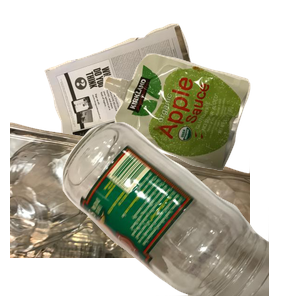glass: (60, 120, 300, 300)
paper: (42, 21, 249, 181)
plastic: (10, 120, 250, 300)
trash: (100, 51, 300, 214)
